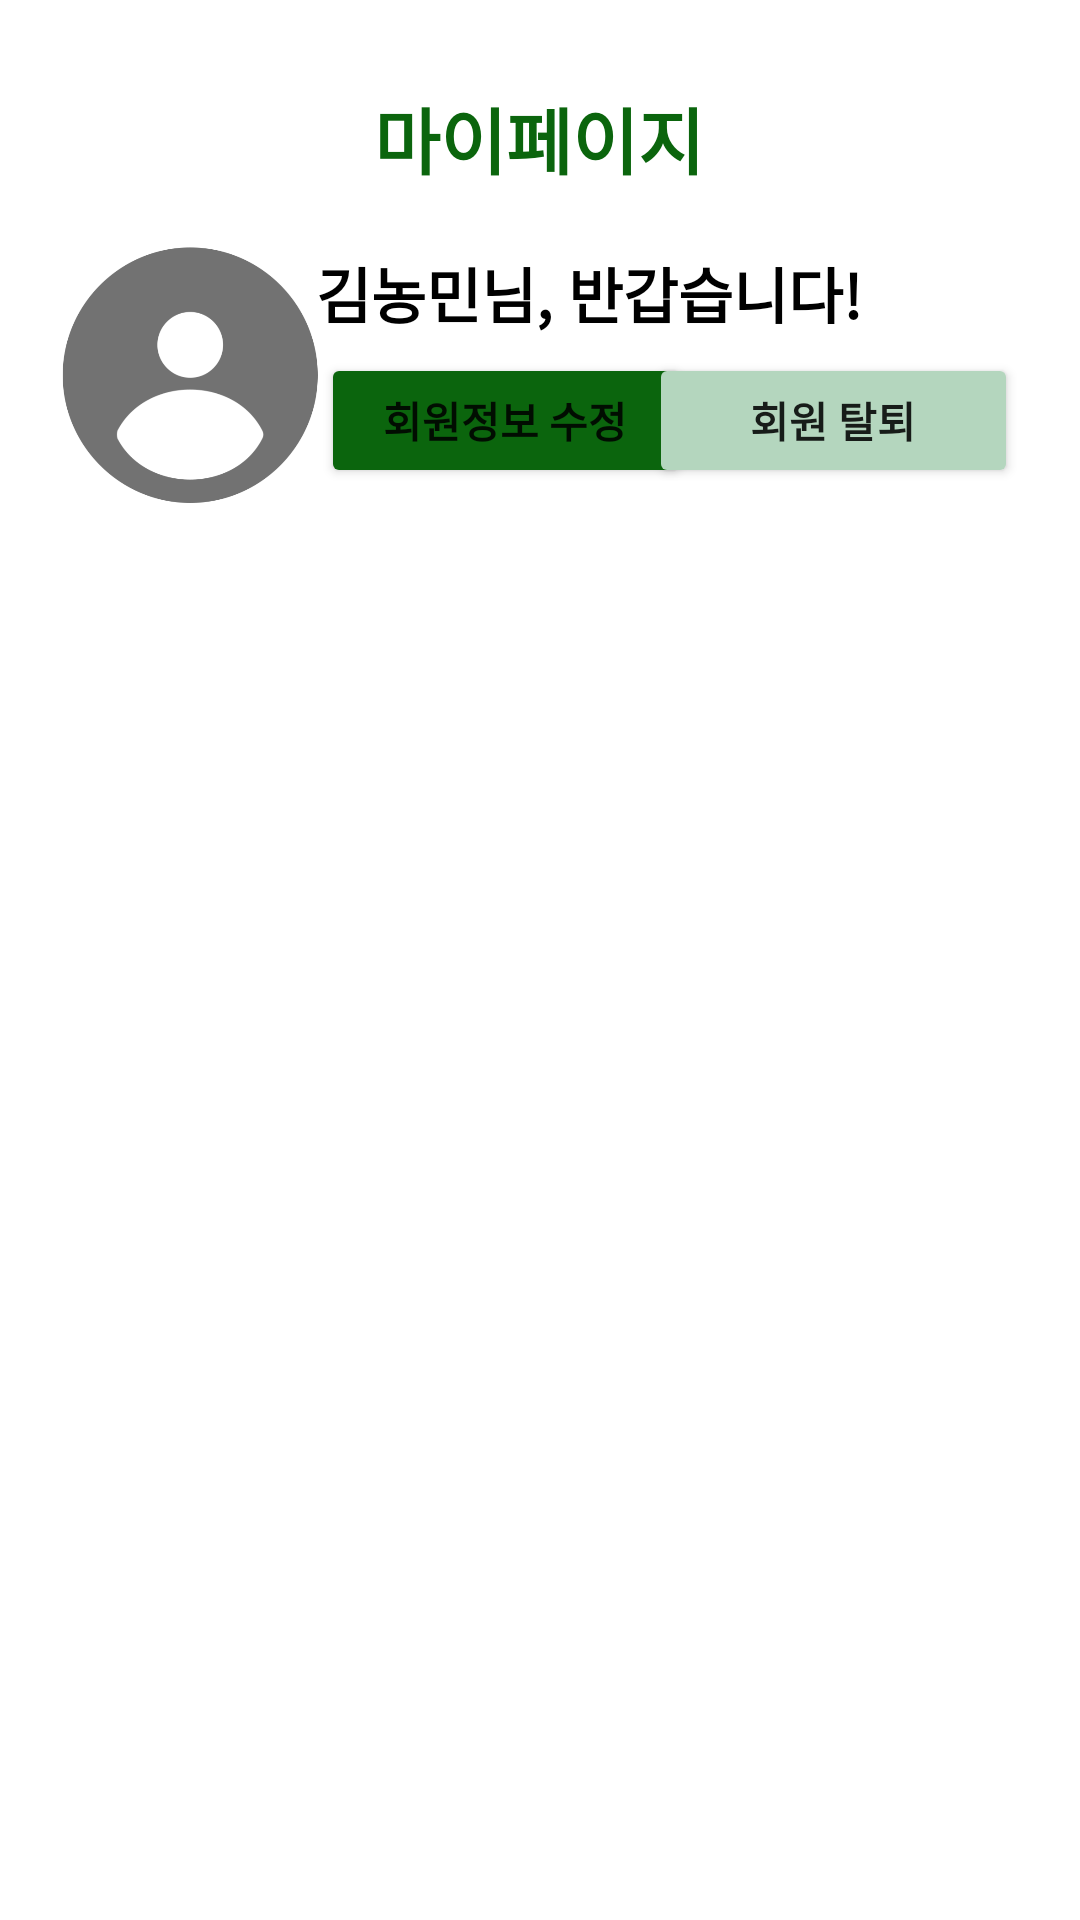

Point at icon controls on the screen. Image size 1080*1920, points as (x=x, y=y).
profile: (x=190, y=375)
